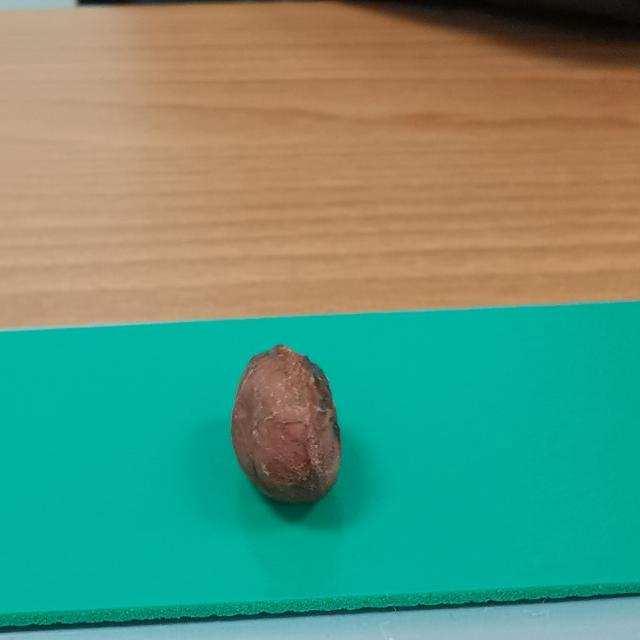Fine_cocoabeans: (145, 324, 447, 553)
